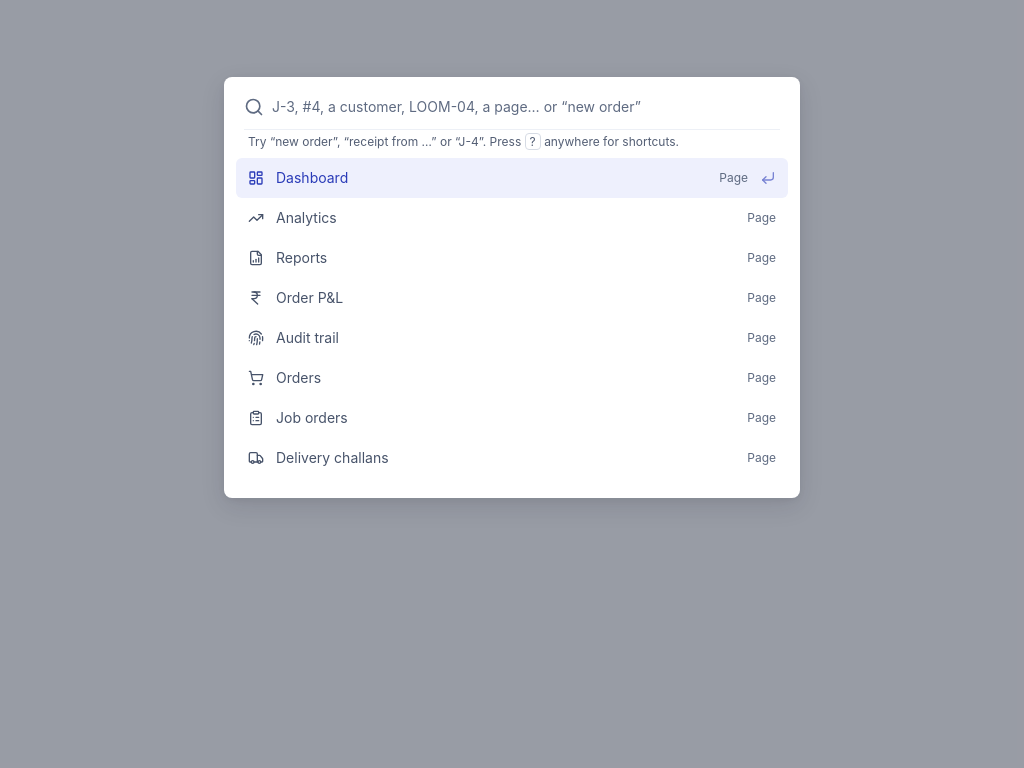
Test case: GlobalSearch › finds an order by number and by customer PO
This screenshot has width=1024, height=768.
Type "#4" into the field named "Search everything".
click(526, 107); type("#4")  # box [272,97,780,117]
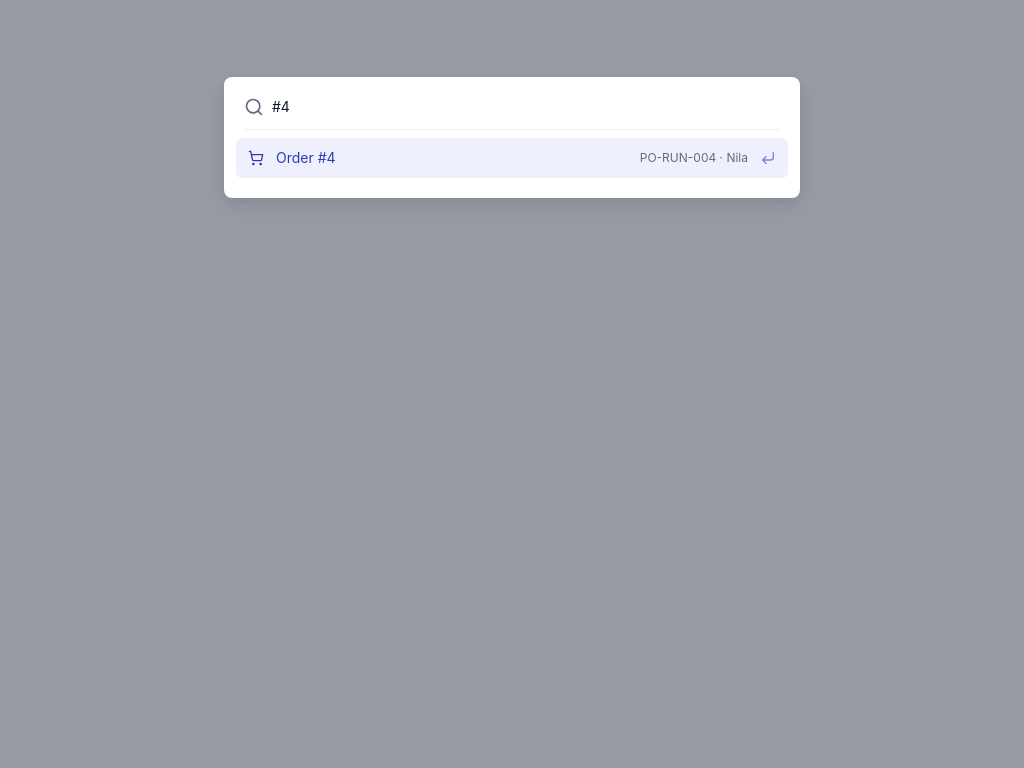
Expected: the text "Order #4" is shown, [276,149,336,166]
